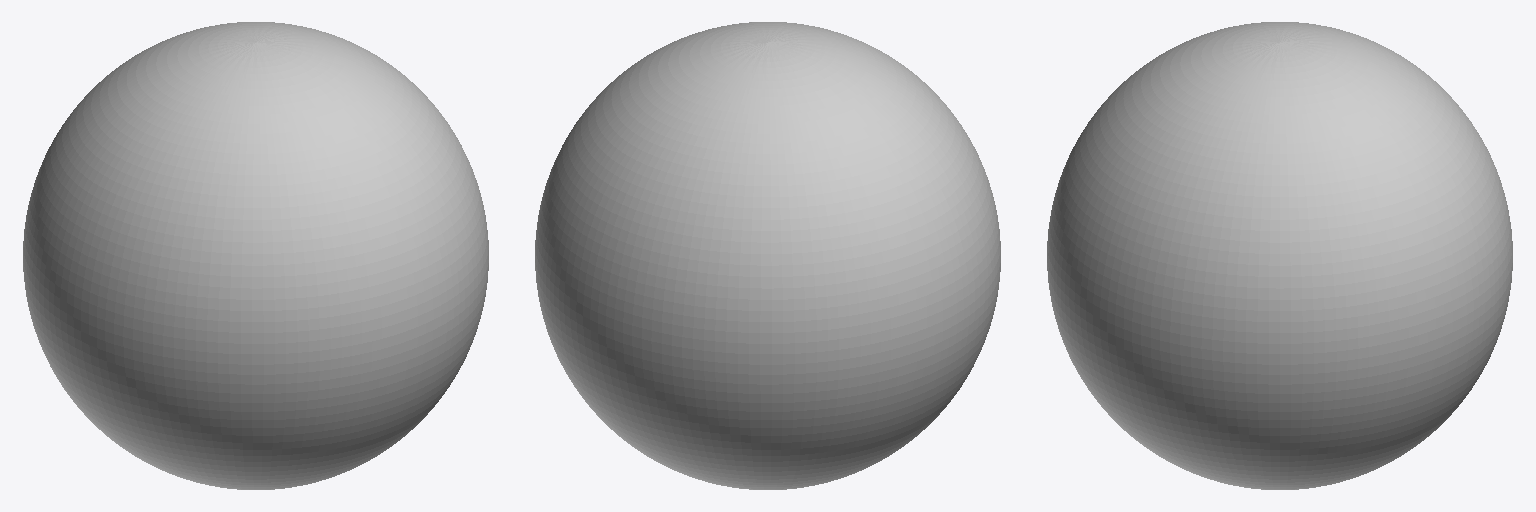
File: ball.obj
3 views of the same model, side by side, from view 1: azimuth 30°, elevation 25°; view 2: azimuth 150°, elevation 25°; view 3: azimuth 270°, elevation 25° (orthographic).
Visible parts, largest first — view 1: Sphere_Sphere.001; view 2: Sphere_Sphere.001; view 3: Sphere_Sphere.001.
Boxes of the visible parts, x1,y1,x2,y2 form: Sphere_Sphere.001: [23, 22, 488, 489]; Sphere_Sphere.001: [535, 22, 1000, 489]; Sphere_Sphere.001: [1047, 22, 1512, 489].
Bounding box in the file's own units: 10.96 × 11.08 × 10.96.